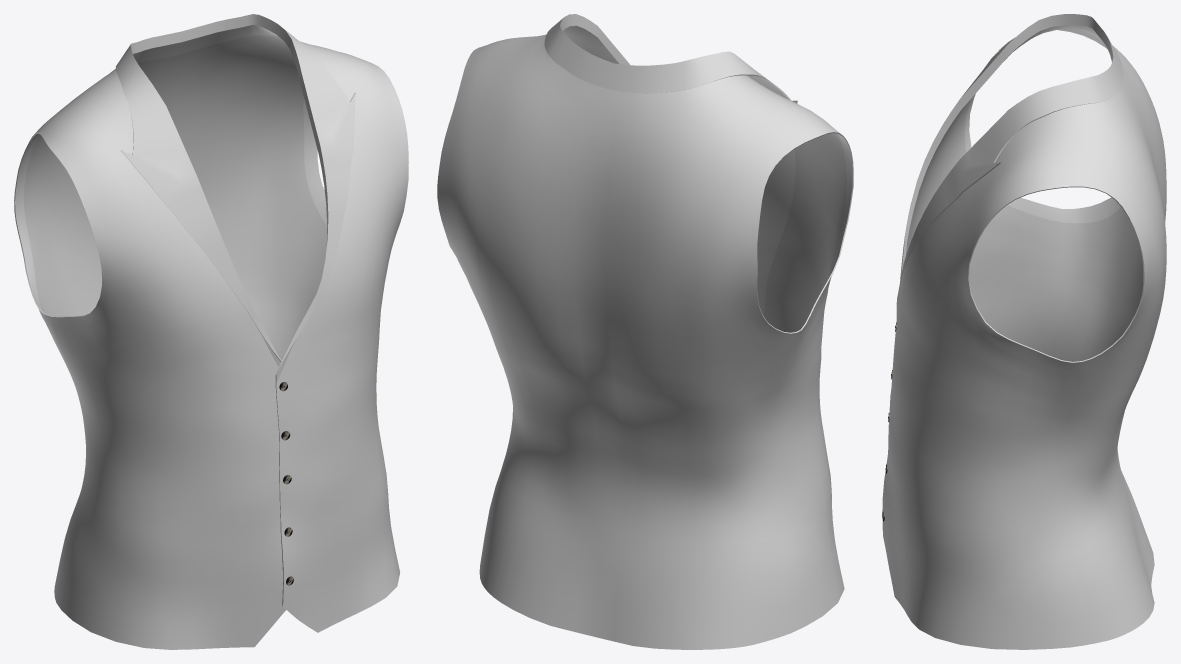
File: SM_CarlosSA_Waistcoat_FrontButtons_SB5EnglishCut.fbx
3 renders of one model, left to right at view 1: azimuth 30°, elevation 25°; view 2: azimuth 150°, elevation 25°; view 3: azimuth 270°, elevation 25°, orthographic. The views are drawn at different scales.
Parts seen in each view (by area): view 1: SM_CarlosSA_Waistcoat_FrontButtons_SB5EnglishCut; view 2: SM_CarlosSA_Waistcoat_FrontButtons_SB5EnglishCut; view 3: SM_CarlosSA_Waistcoat_FrontButtons_SB5EnglishCut.
Boxes of the visible parts, x1,y1,x2,y2 form: SM_CarlosSA_Waistcoat_FrontButtons_SB5EnglishCut: [14, 14, 408, 649]; SM_CarlosSA_Waistcoat_FrontButtons_SB5EnglishCut: [437, 14, 853, 649]; SM_CarlosSA_Waistcoat_FrontButtons_SB5EnglishCut: [882, 14, 1166, 649].
Bounding box in the file's own units: 0.3797 × 0.592 × 0.2829.
